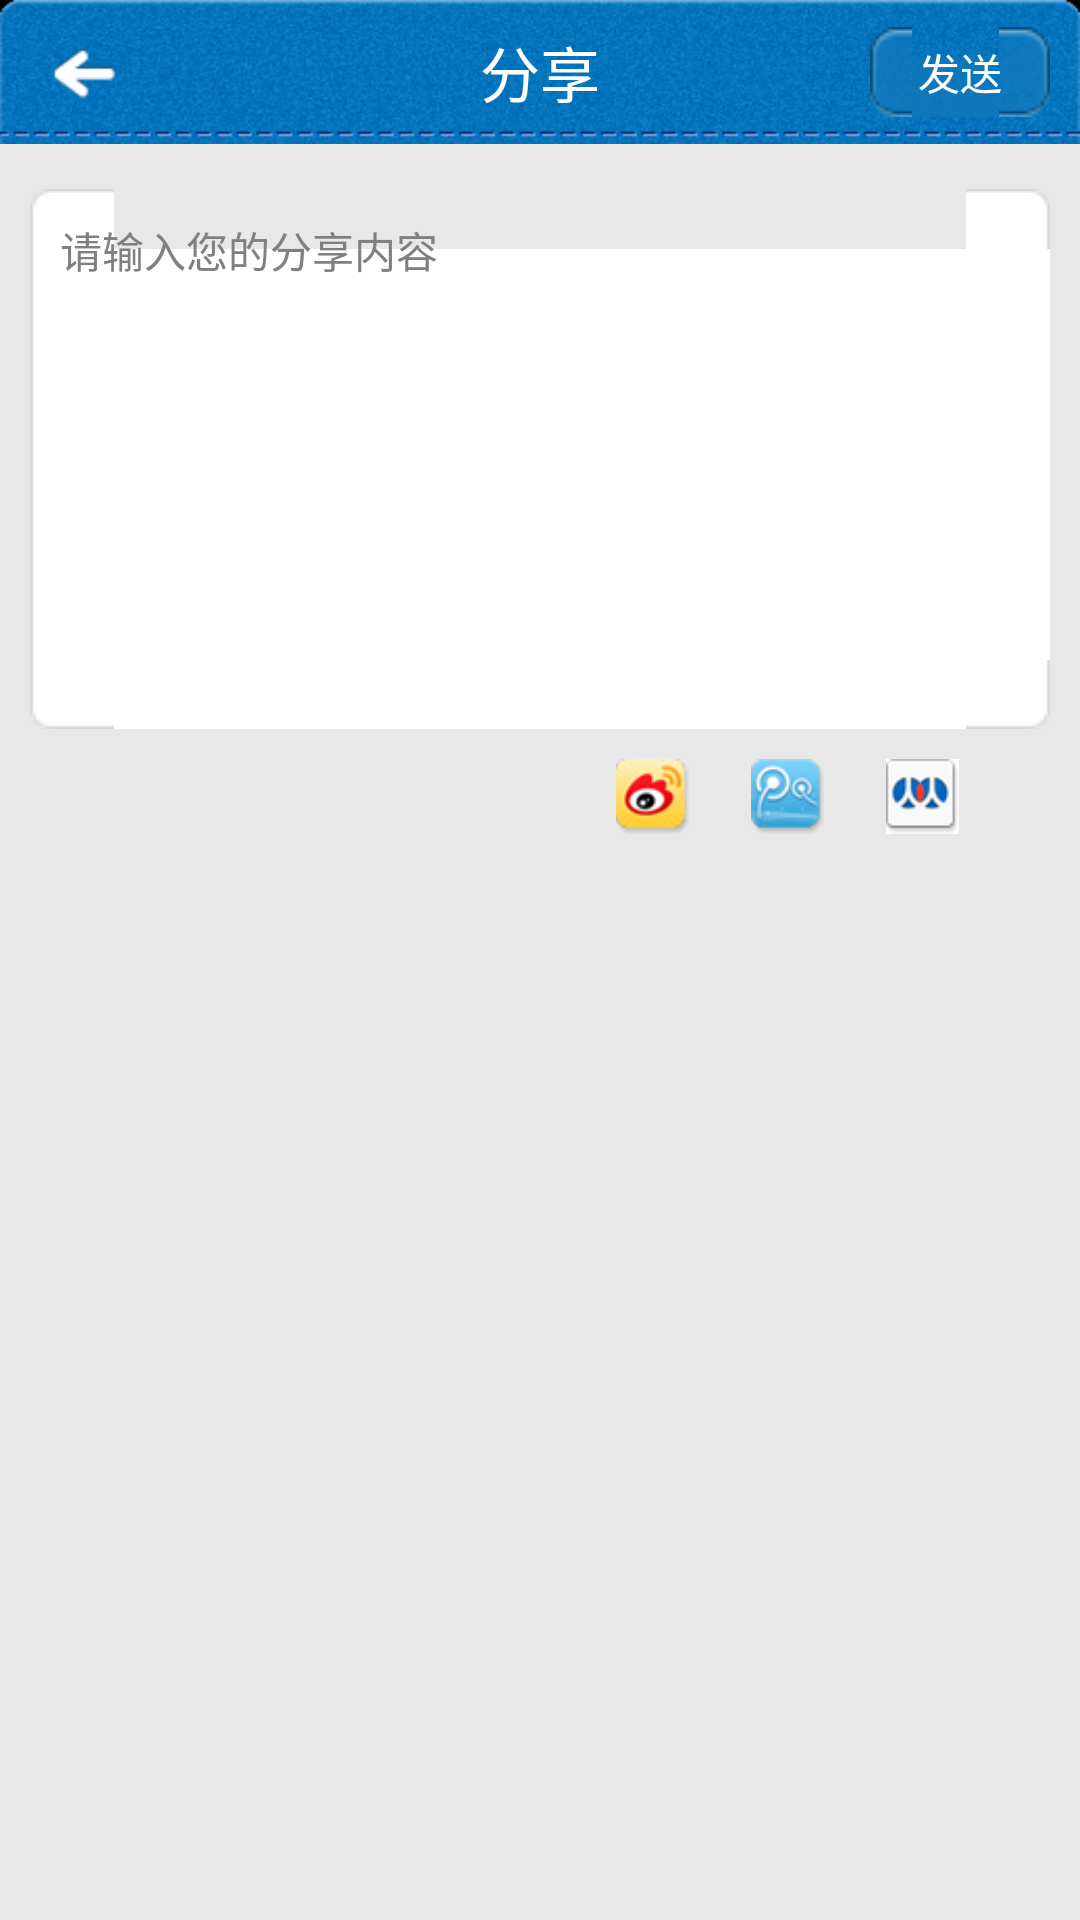

Icon bounding boxes for this 1080w x 1920h phone screenshot, format [x1,y1,x2,y2]:
title back: [15,48,150,137]
